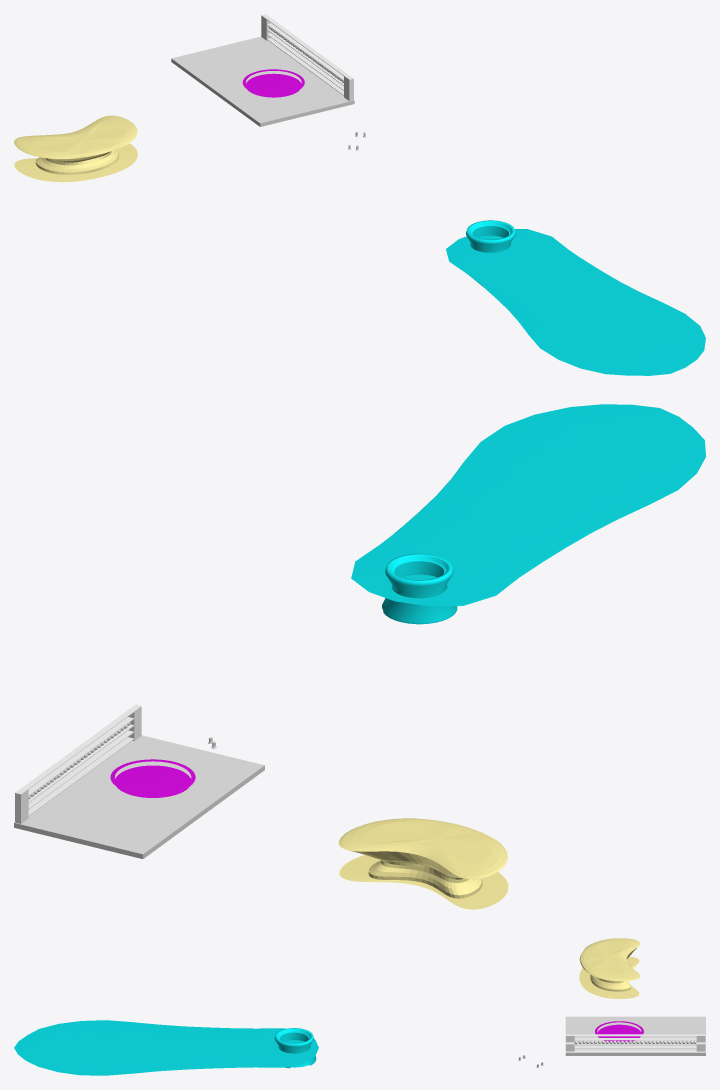
The model's file is все.fbx.
The picture shows the model from 3 angles, top to bottom: view 1: azimuth 30°, elevation 25°; view 2: azimuth 150°, elevation 25°; view 3: azimuth 270°, elevation 25°; orthographic projection. The views are drawn at different scales.
Visible parts, largest first — view 1: Sphere, Cube, Torus.003, Cube.001, Torus, Cylinder.001; view 2: Sphere, Cube, Torus.003, Cube.001, Cylinder.001, Torus; view 3: Sphere, Cube, Torus.003, Cube.001, Cylinder.001, Torus.
Part boxes in pixels (x1,y1,x2,y2): Sphere: [446, 229, 705, 375]; Cube: [171, 36, 354, 126]; Torus.003: [14, 115, 137, 182]; Cube.001: [261, 14, 353, 101]; Torus: [242, 69, 304, 97]; Cylinder.001: [466, 220, 515, 252]; Sphere: [351, 404, 705, 605]; Cube: [14, 735, 264, 858]; Torus.003: [338, 818, 508, 909]; Cube.001: [15, 704, 141, 823]; Cylinder.001: [382, 553, 457, 624]; Torus: [110, 759, 195, 797]; Sphere: [14, 1020, 318, 1075]; Cube: [565, 1016, 705, 1055]; Torus.003: [579, 938, 639, 998]; Cube.001: [566, 1034, 705, 1051]; Cylinder.001: [274, 1028, 316, 1068]; Torus: [595, 1021, 643, 1041].
Size of the model in its own units: 6210 by 820 by 13870.
